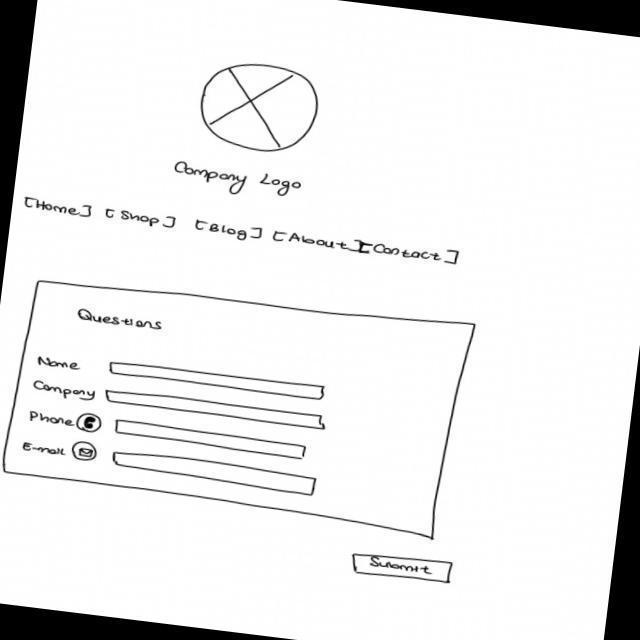button: (350, 550, 455, 587)
container: (1, 267, 478, 543)
icon-button: (76, 411, 105, 436), (71, 440, 101, 464)
image: (194, 57, 325, 161)
input: (110, 449, 320, 498), (108, 359, 328, 403), (103, 388, 329, 430), (113, 419, 311, 463)
label: (171, 160, 308, 205), (75, 308, 165, 334), (31, 380, 101, 405), (35, 356, 86, 374), (28, 411, 76, 430), (20, 441, 69, 458)
link: (359, 239, 463, 268), (273, 230, 364, 254), (103, 207, 181, 232), (190, 219, 265, 244), (23, 196, 96, 219)
